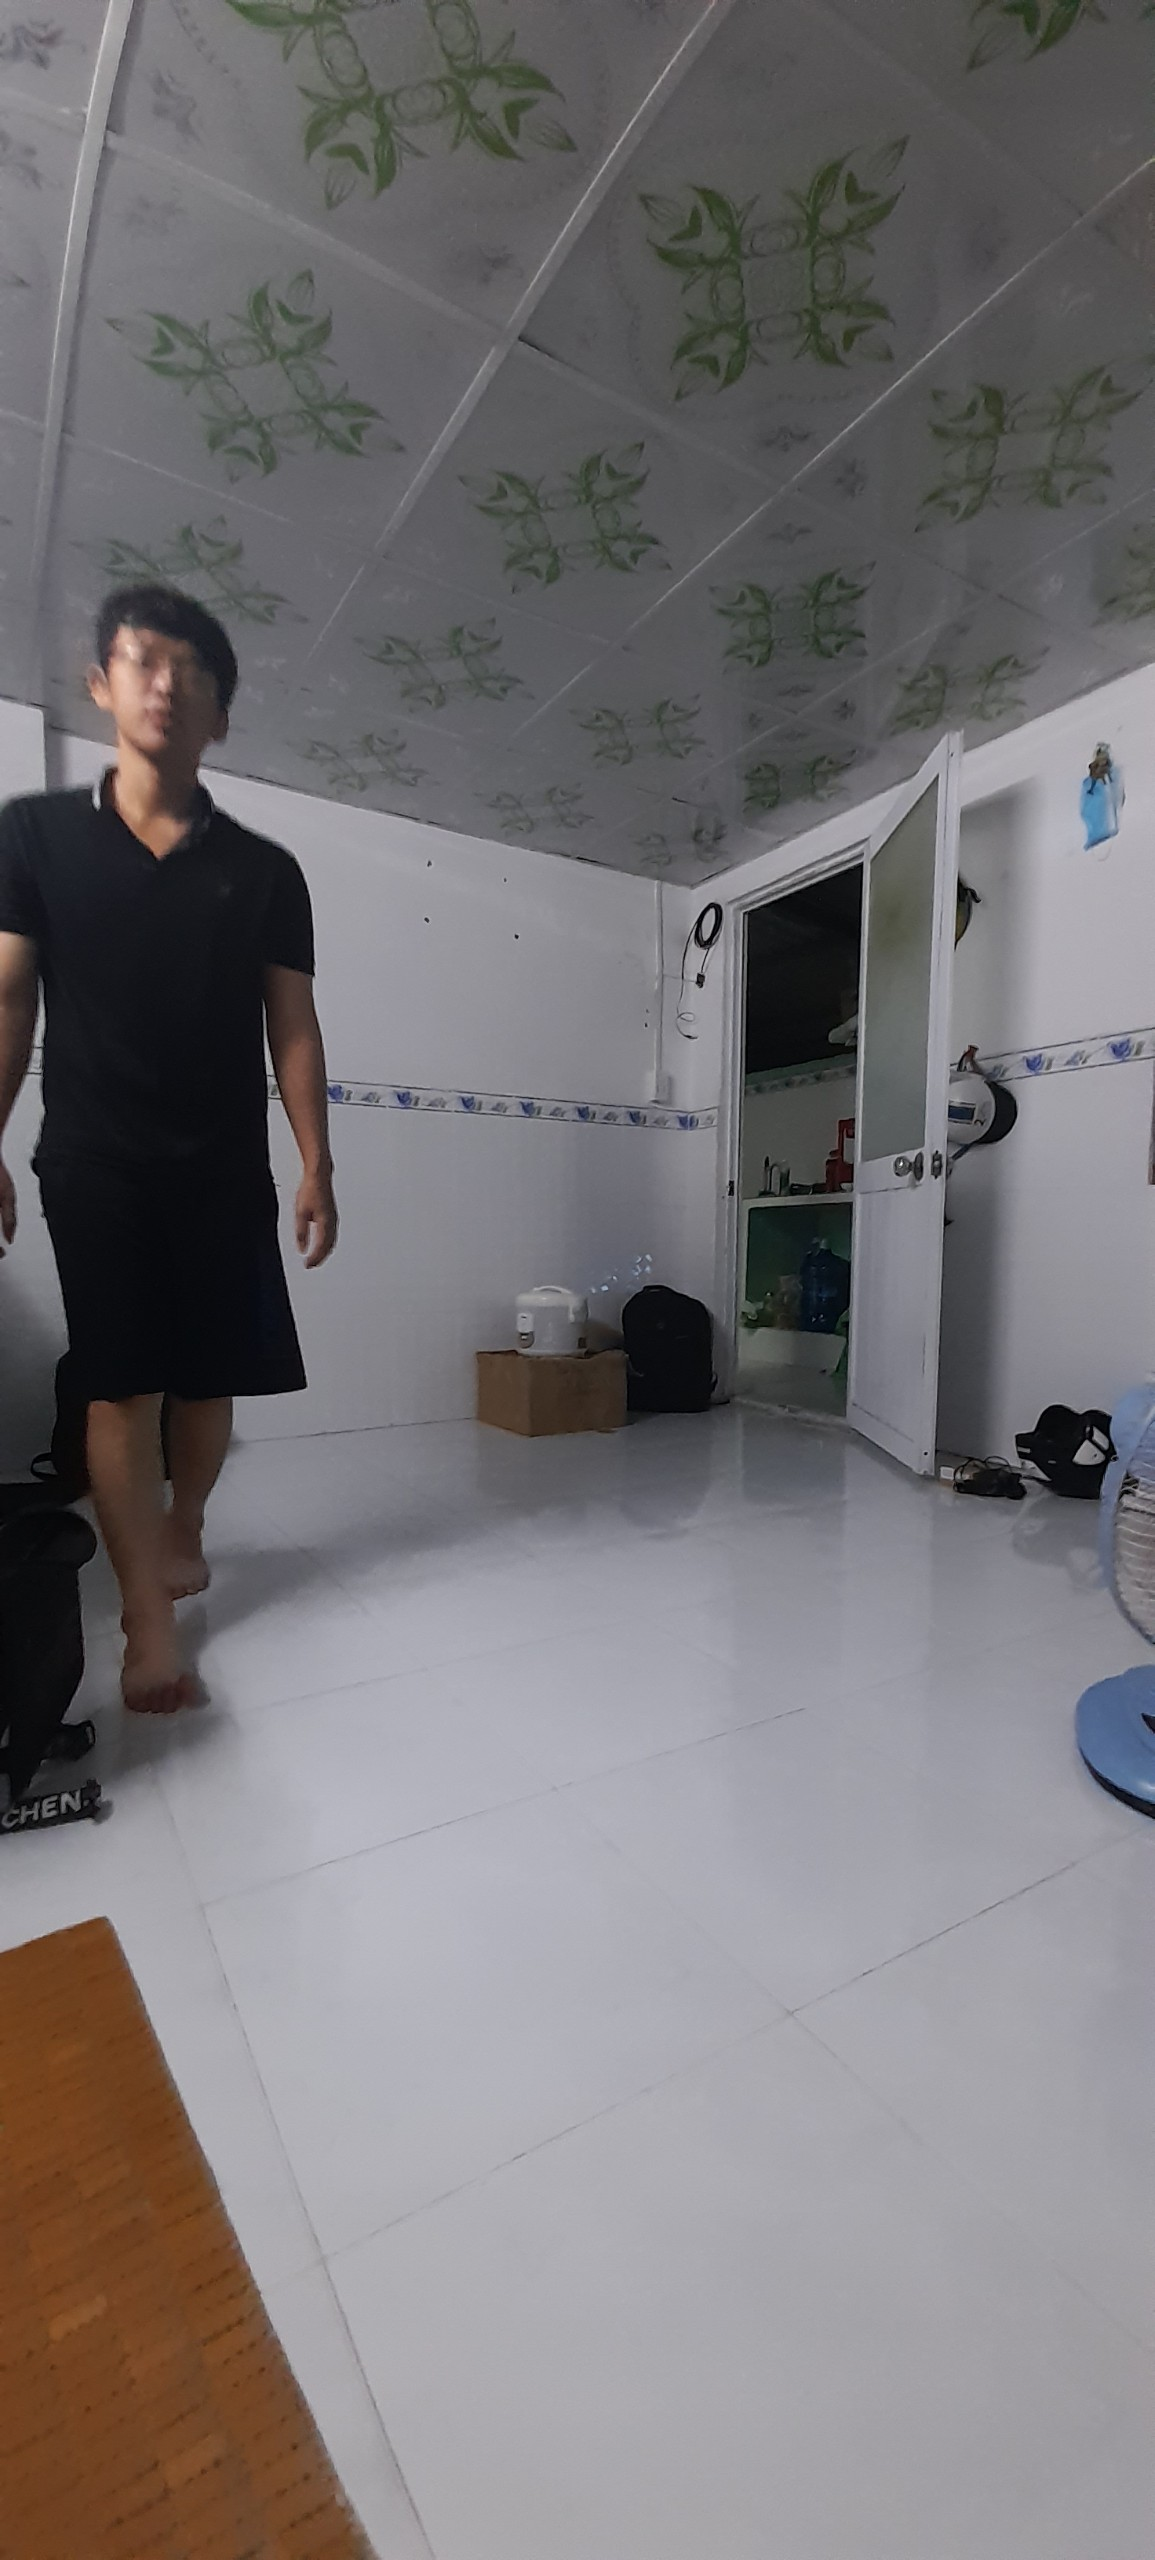person: (1, 590, 289, 1722)
